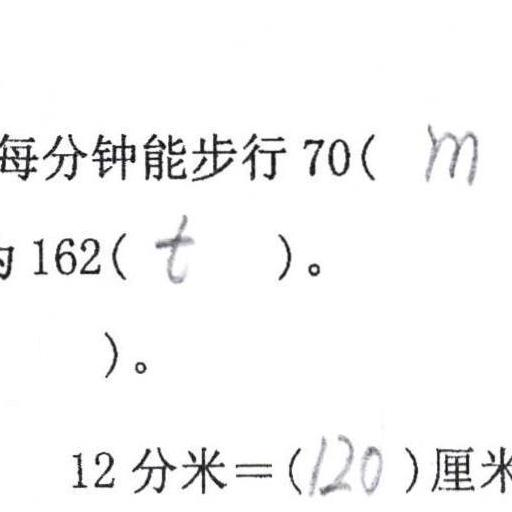ans: (305, 426, 383, 499), (418, 118, 482, 187), (147, 209, 195, 286)
